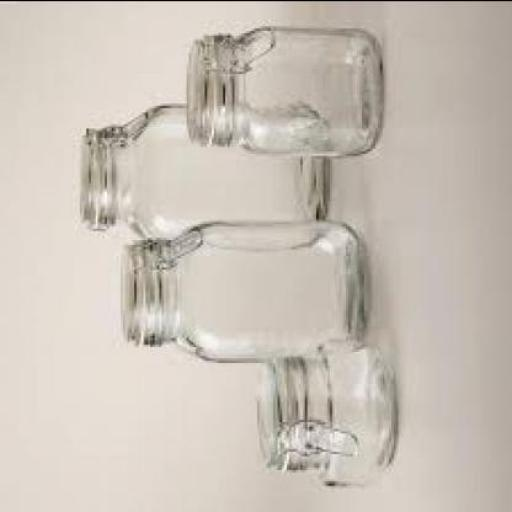glass: (120, 214, 362, 362), (77, 102, 328, 239), (186, 25, 380, 155), (255, 335, 394, 485)
